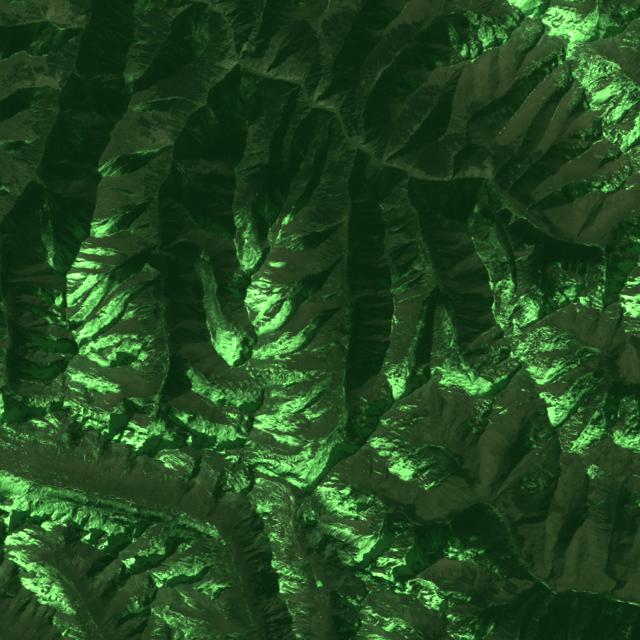landslides: (392, 234, 418, 243), (348, 252, 364, 265), (340, 142, 354, 154), (320, 418, 337, 427), (383, 203, 408, 209), (351, 199, 367, 208), (338, 176, 354, 183), (326, 114, 337, 124)
